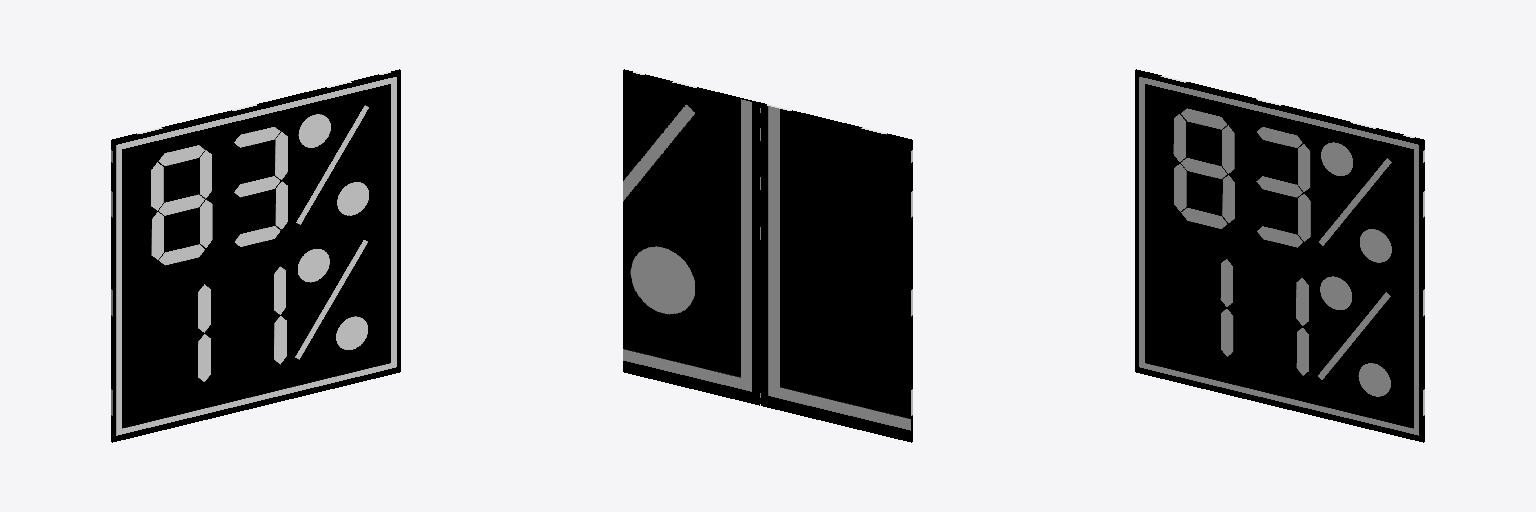
3 renders of one model, left to right at view 1: azimuth 30°, elevation 25°; view 2: azimuth 150°, elevation 25°; view 3: azimuth 330°, elevation 25°, orthographic.
Parts seen in each view (by area): view 1: measure_gas_3_Body1.026_Body1.022; view 2: measure_gas_3_Body1.026_Body1.022; view 3: measure_gas_3_Body1.026_Body1.022.
Boxes of the visible parts, x1,y1,x2,y2 form: measure_gas_3_Body1.026_Body1.022: [111, 69, 400, 442]; measure_gas_3_Body1.026_Body1.022: [623, 69, 912, 442]; measure_gas_3_Body1.026_Body1.022: [1135, 69, 1424, 442].
Bounding box in the file's own units: 0.11 × 0.11 × 0.001.
Materials: 1 (1 with a texture image).